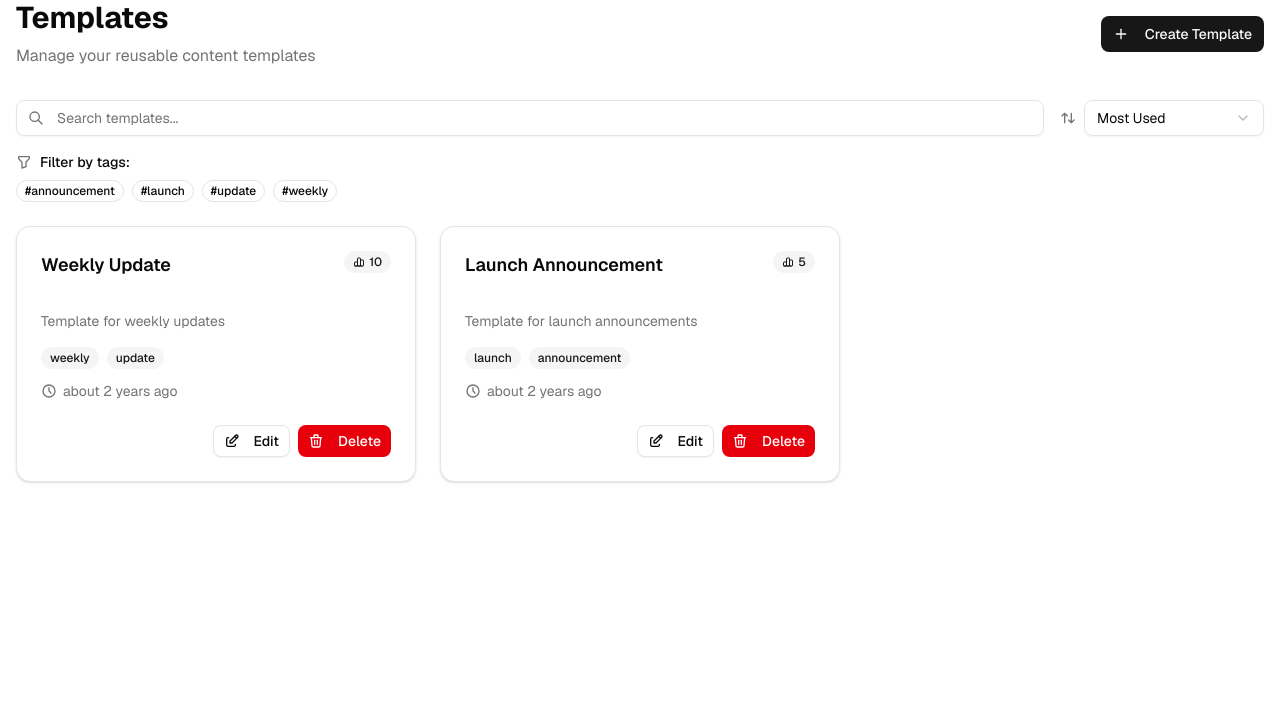
Test: TemplateLibrary Component › Delete Template › should close delete dialog after successful delete
This screenshot has width=1280, height=720.
# Open delete dialog
Click the button "Delete" below "Template for weekly updates". click: (344, 441)
box: [298,425,391,457]
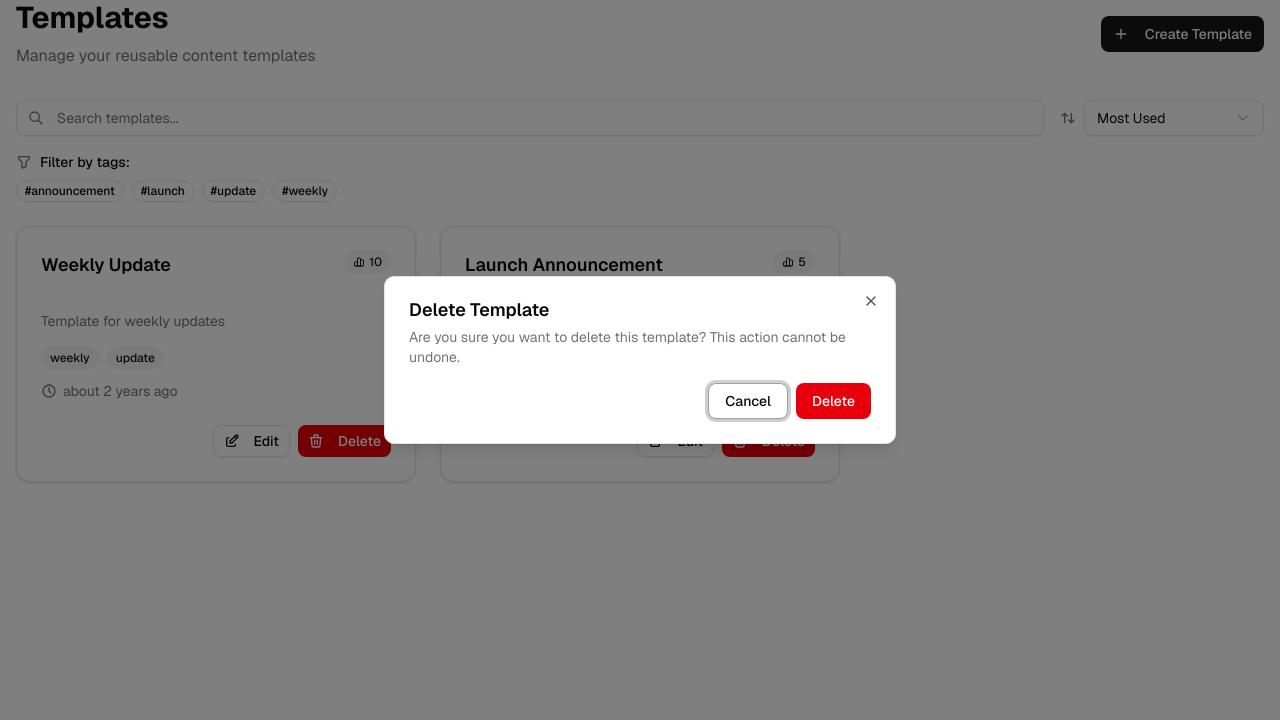
# Confirm delete
Click the button "Delete". click: (833, 401)
box: [796,383,871,419]
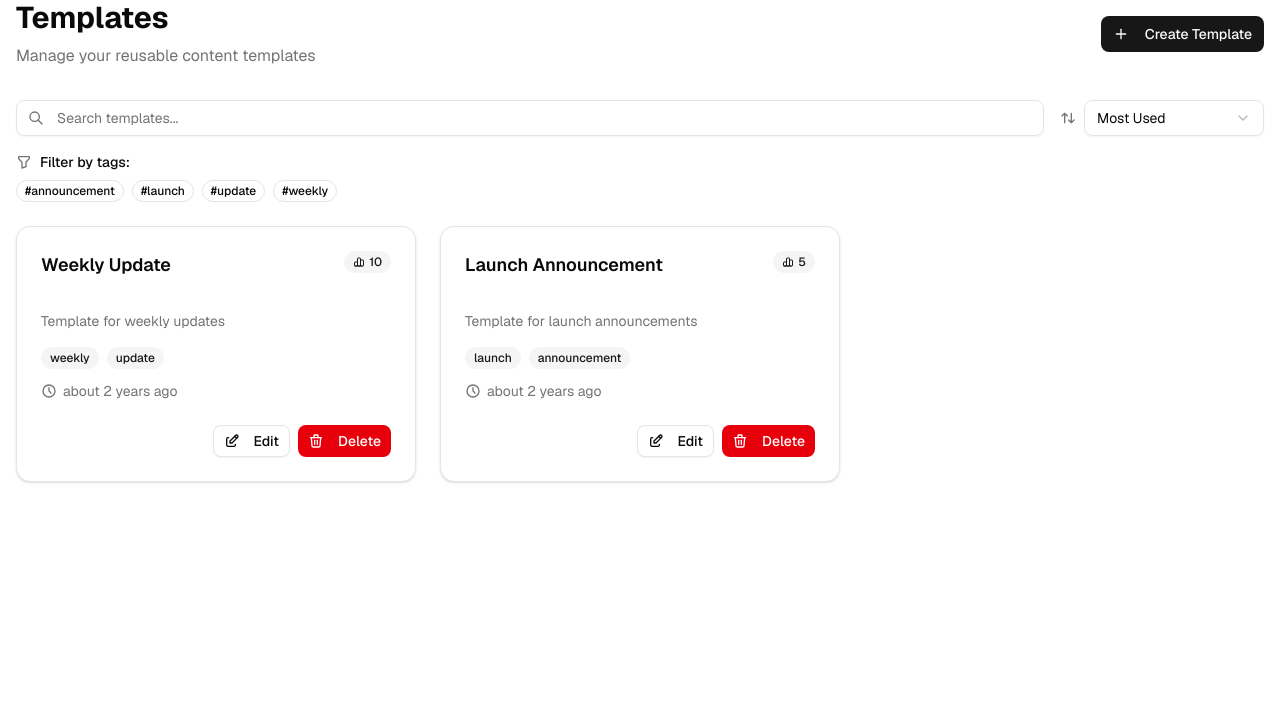
expect the heading "Delete Template" is gone: met
